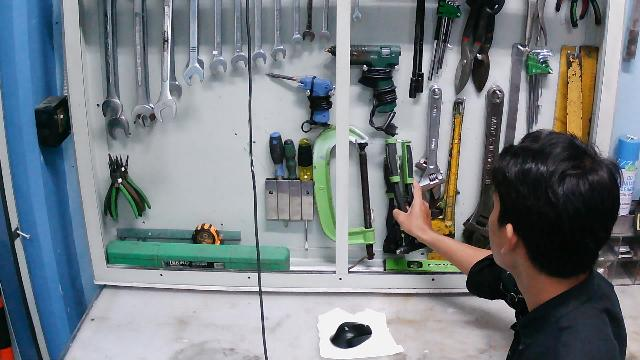tang_rivet: (386, 137, 431, 254)
